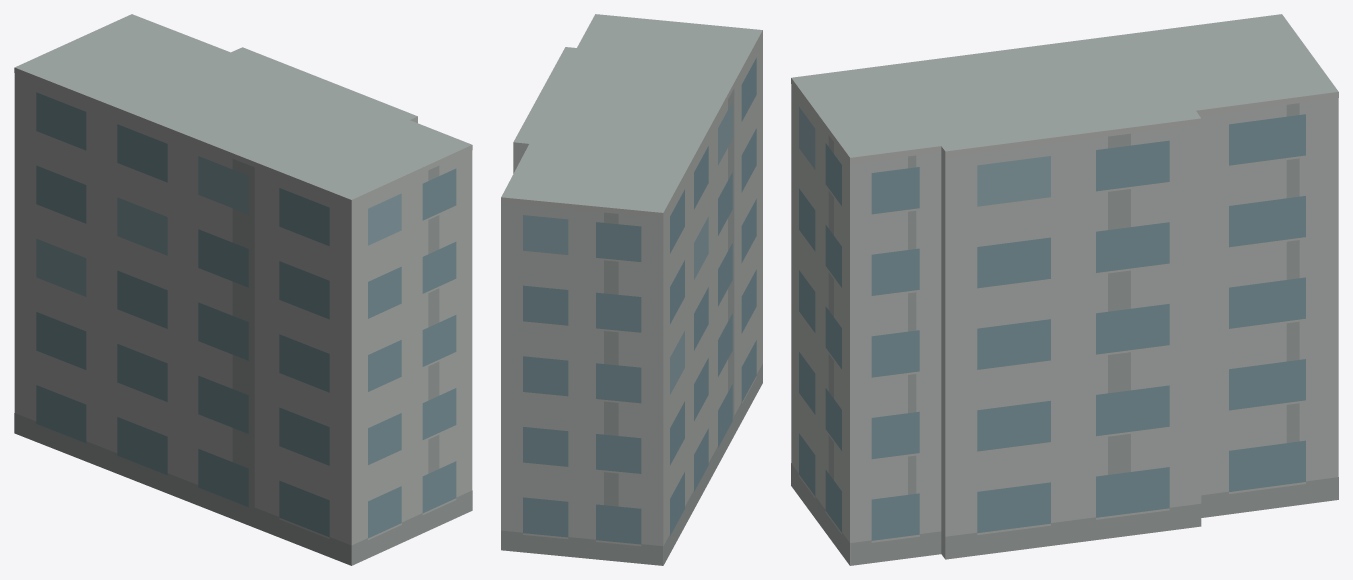
File: survey-upis-32619184.glb
3 views of the same model, side by side, from view 1: azimuth 30°, elevation 25°; view 2: azimuth 150°, elevation 25°; view 3: azimuth 270°, elevation 25° (orthographic). The views are drawn at different scales.
Parts seen in each view (by area): view 1: survey-upis-32619184.tmp; view 2: survey-upis-32619184.tmp; view 3: survey-upis-32619184.tmp.
Part boxes in pixels (left/top/right/bottom): survey-upis-32619184.tmp: left=14, top=14, right=472, bottom=565; survey-upis-32619184.tmp: left=501, top=14, right=762, bottom=565; survey-upis-32619184.tmp: left=791, top=14, right=1338, bottom=565.
Bounding box in the file's own units: 12.29 × 16.25 × 19.77.
